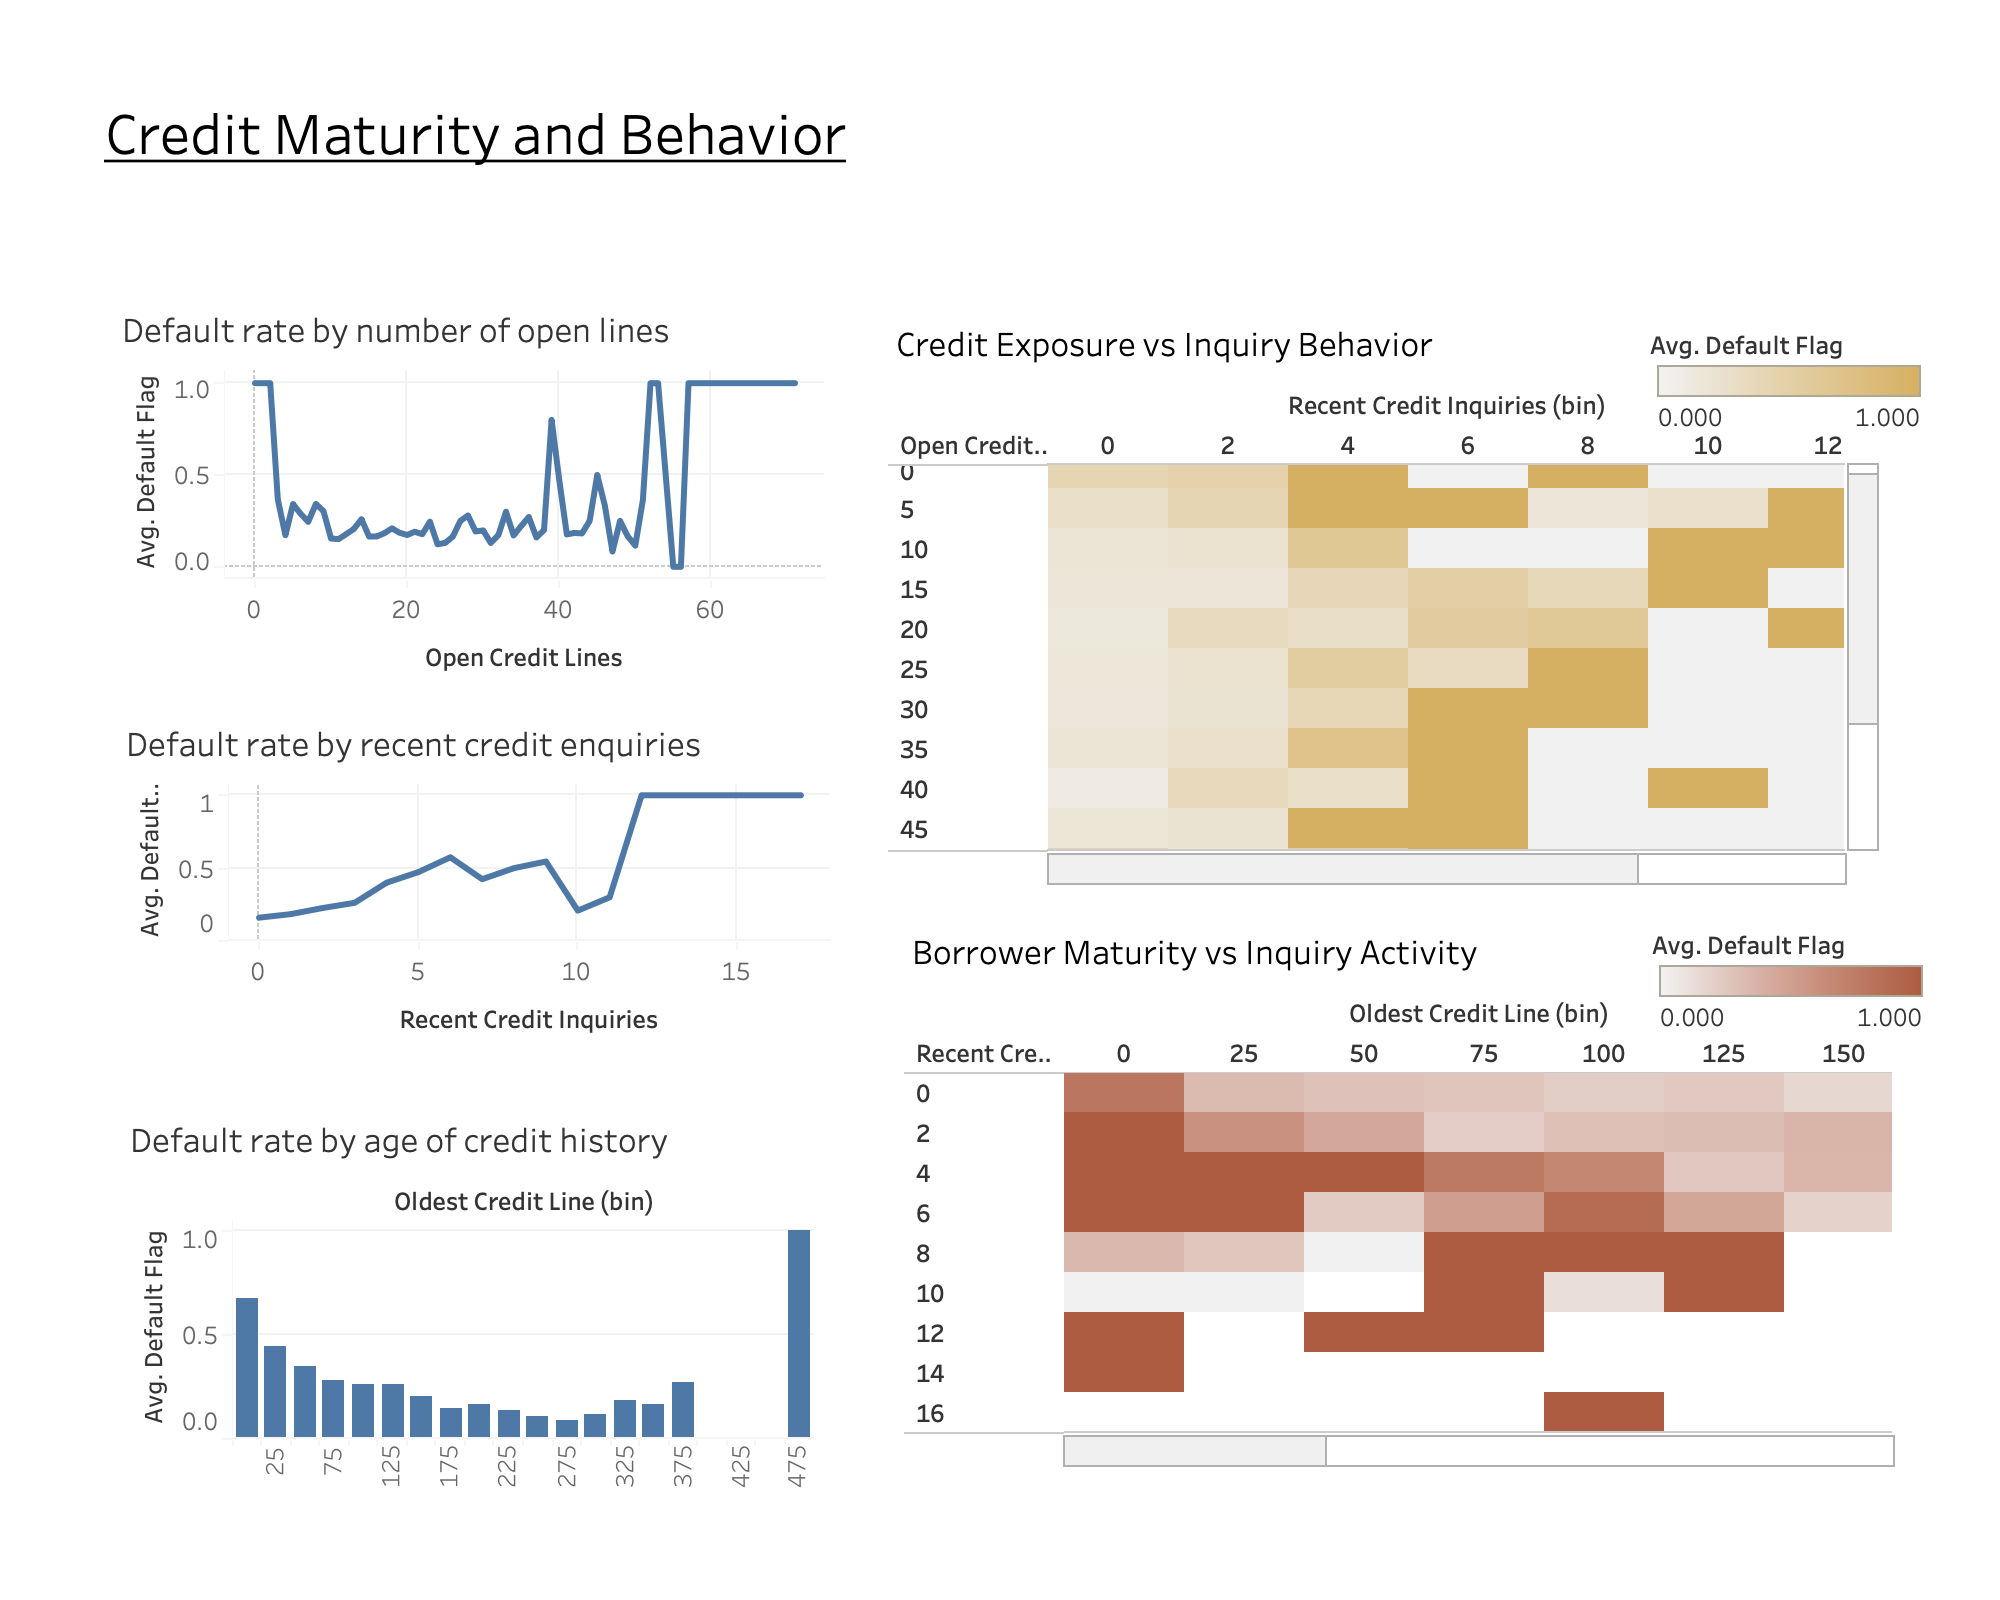

The page's visual inventory and layout, read from the dashboard file:
{"tool":"tableau","page":{"name":"Credit Maturity","canvas":[1000,800],"ordinal":0},"visuals":[{"type":"text","box":[50,42,607,49]},{"type":"worksheet","title":"Open Credit Line","mark":"Automatic","rows":["default_flag"],"cols":["open_credit_lines"],"box":[57,147,355,197]},{"type":"worksheet","title":"Open-Recent","mark":"Automatic","rows":["Open Credit Lines (bin)"],"cols":["Recent Credit Inquiries (bin)"],"box":[444,154,496,289]},{"type":"legend","title":"Open-Recent","param":"[federated.0m3ud0x0xd8ejk149ppzg0c32j39].[avg:default_flag:qk]","box":[825,160,140,76]},{"type":"worksheet","title":"Recent Credit Inq","mark":"Automatic","rows":["default_flag"],"cols":["recent_credit_inquiries"],"box":[59,354,356,171]},{"type":"worksheet","title":"Oldest-Recent","mark":"Automatic","rows":["Recent Credit Inquiries (bin)"],"cols":["Oldest Credit Line (bin)"],"box":[452,458,495,281]},{"type":"legend","title":"Oldest-Recent","param":"[federated.0m3ud0x0xd8ejk149ppzg0c32j39].[avg:default_flag:qk]","box":[826,460,140,76]},{"type":"worksheet","title":"Old Credit Line","mark":"Automatic","rows":["default_flag"],"cols":["Oldest Credit Line (bin)"],"box":[61,552,346,193]}]}

Visuals, with their boxes in screenshot pixels (x1, y1, x2, y2), scaled from the page's 1000x800 canvas onto the 2000x1600 screenshot:
text: detection(100, 84, 1314, 182)
"Open Credit Line" worksheet: detection(114, 294, 824, 688)
"Open-Recent" worksheet: detection(888, 308, 1880, 886)
"Open-Recent" legend: detection(1650, 320, 1930, 472)
"Recent Credit Inq" worksheet: detection(118, 708, 830, 1050)
"Oldest-Recent" worksheet: detection(904, 916, 1894, 1478)
"Oldest-Recent" legend: detection(1652, 920, 1932, 1072)
"Old Credit Line" worksheet: detection(122, 1104, 814, 1490)
